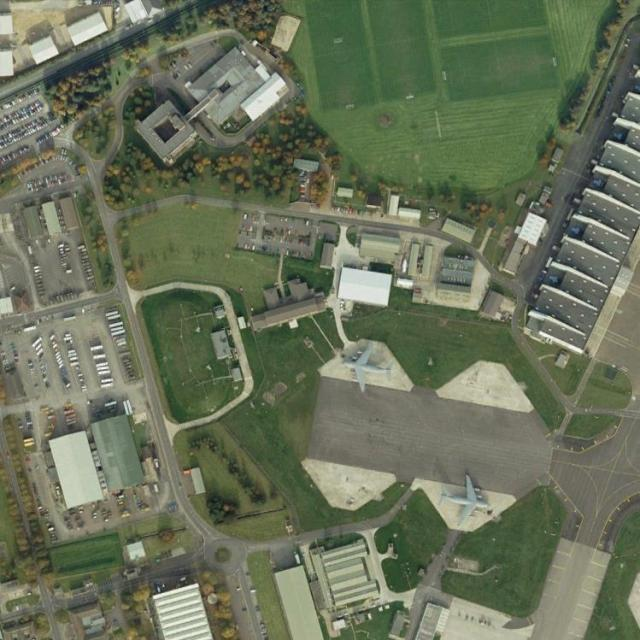fighter jet: (441, 475, 489, 524), (341, 347, 390, 392)
